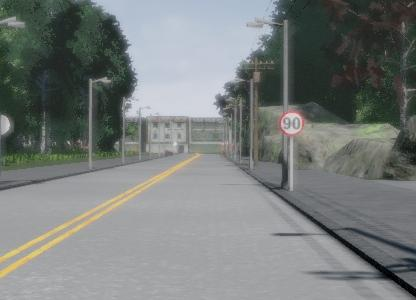Speed_90: (362, 57, 416, 128)
